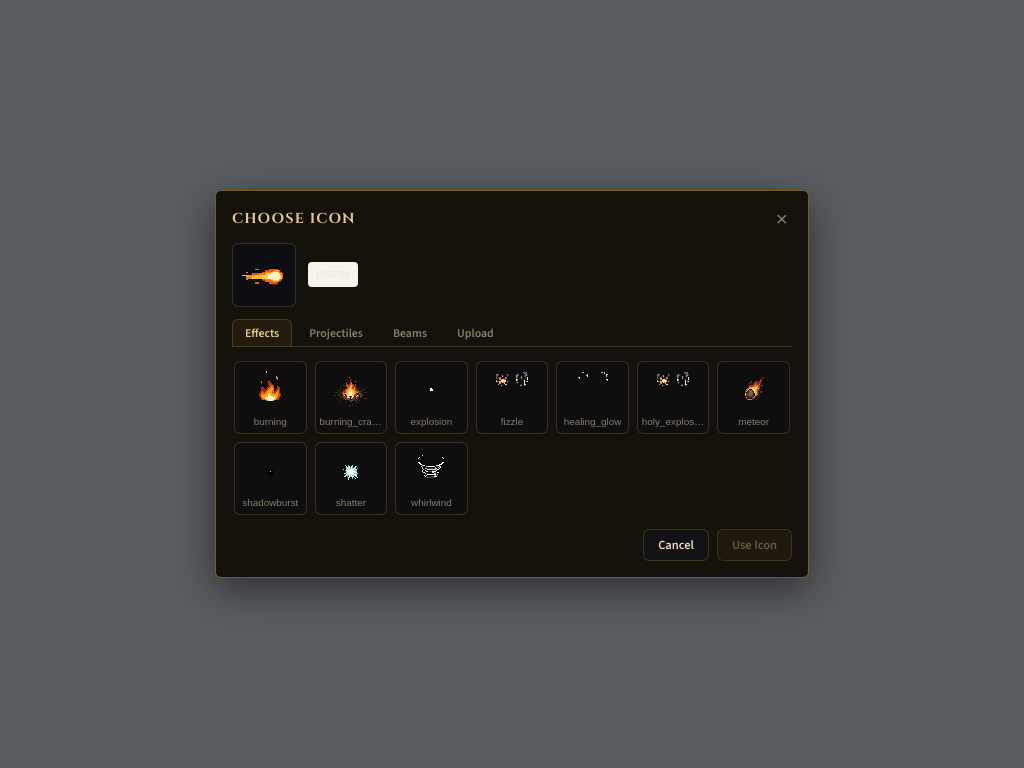
Test: AbilityIconPicker › lists effect and projectile options
Expected: the button "burning" is shown, left=234, top=361, right=307, bottom=434
Click the tab with test id "ability-icon-tab-projectile" at (336, 333), box left=296, top=319, right=376, bottom=347
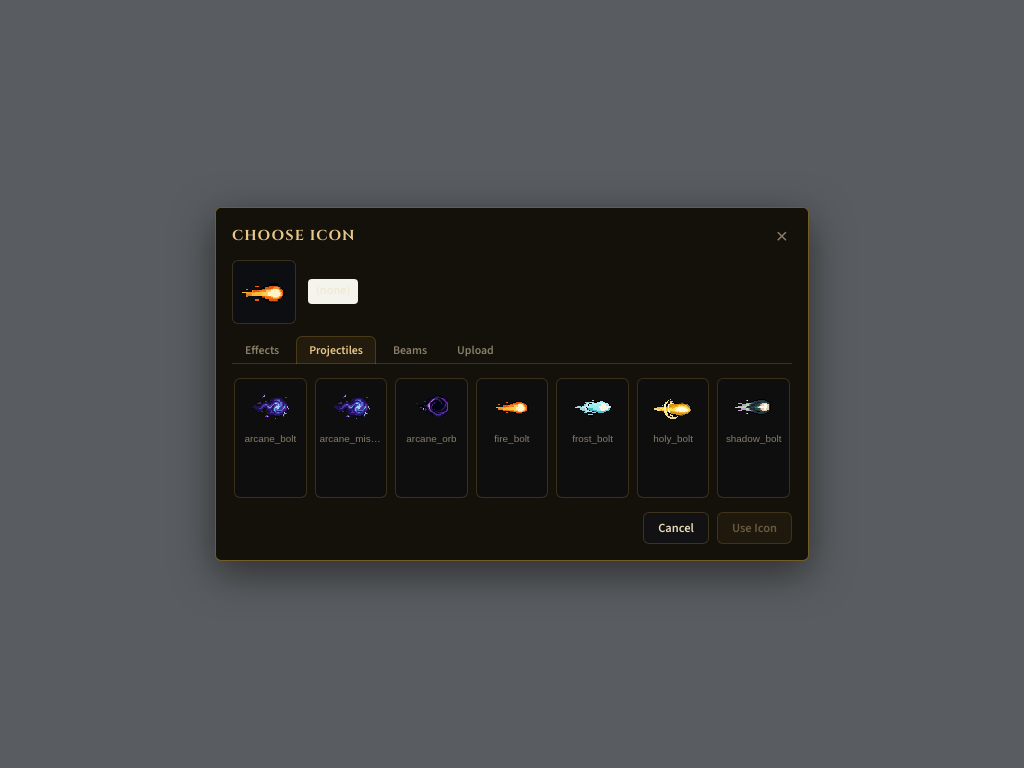
Expected: the button "arcane_bolt" is shown, left=234, top=378, right=307, bottom=498
